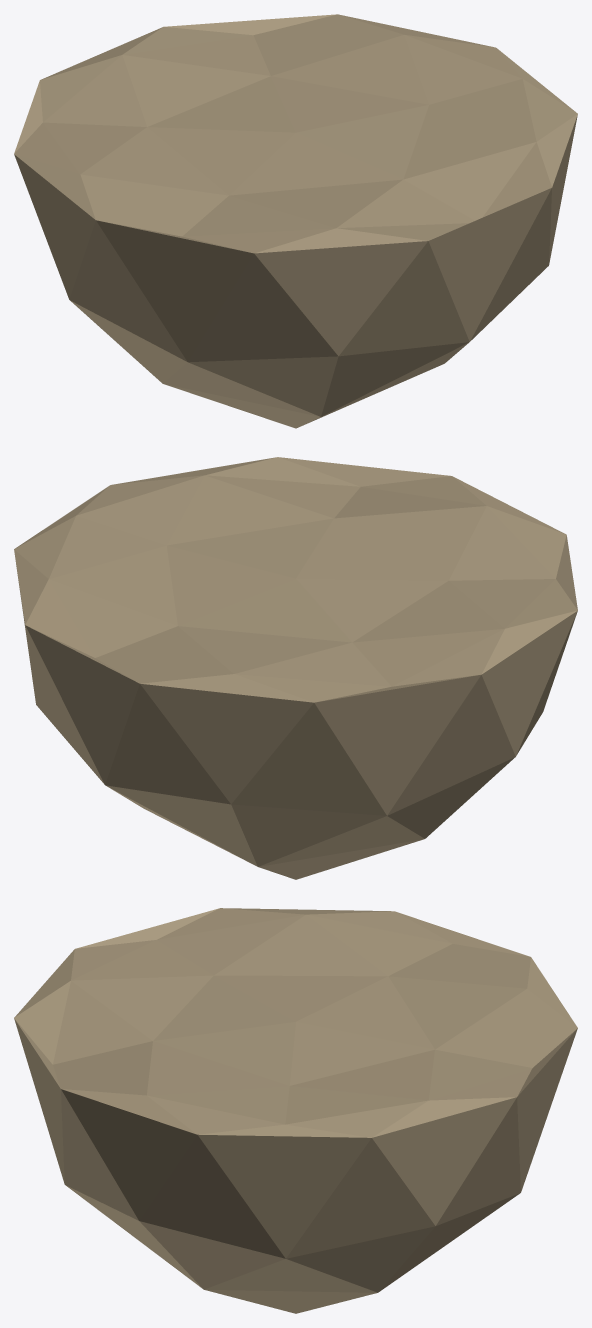
Rendered from FloatRound.fbx.
3 views of the same model, one above another, from view 1: azimuth 30°, elevation 25°; view 2: azimuth 150°, elevation 25°; view 3: azimuth 270°, elevation 25° (orthographic). The views are drawn at different scales.
Visible parts, largest first — view 1: Floaty Island; view 2: Floaty Island; view 3: Floaty Island.
Part boxes in pixels (<box>): Floaty Island: <box>14,14,577,428</box>; Floaty Island: <box>14,457,577,879</box>; Floaty Island: <box>14,908,577,1313</box>.
Size of the model in its own units: 6058 by 3662 by 6284.
